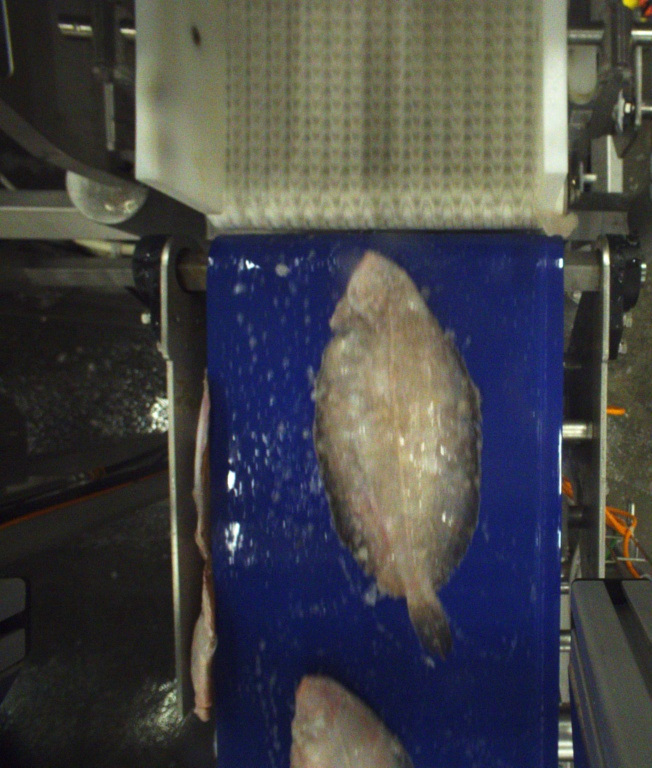WIT: (290, 672, 422, 768)
